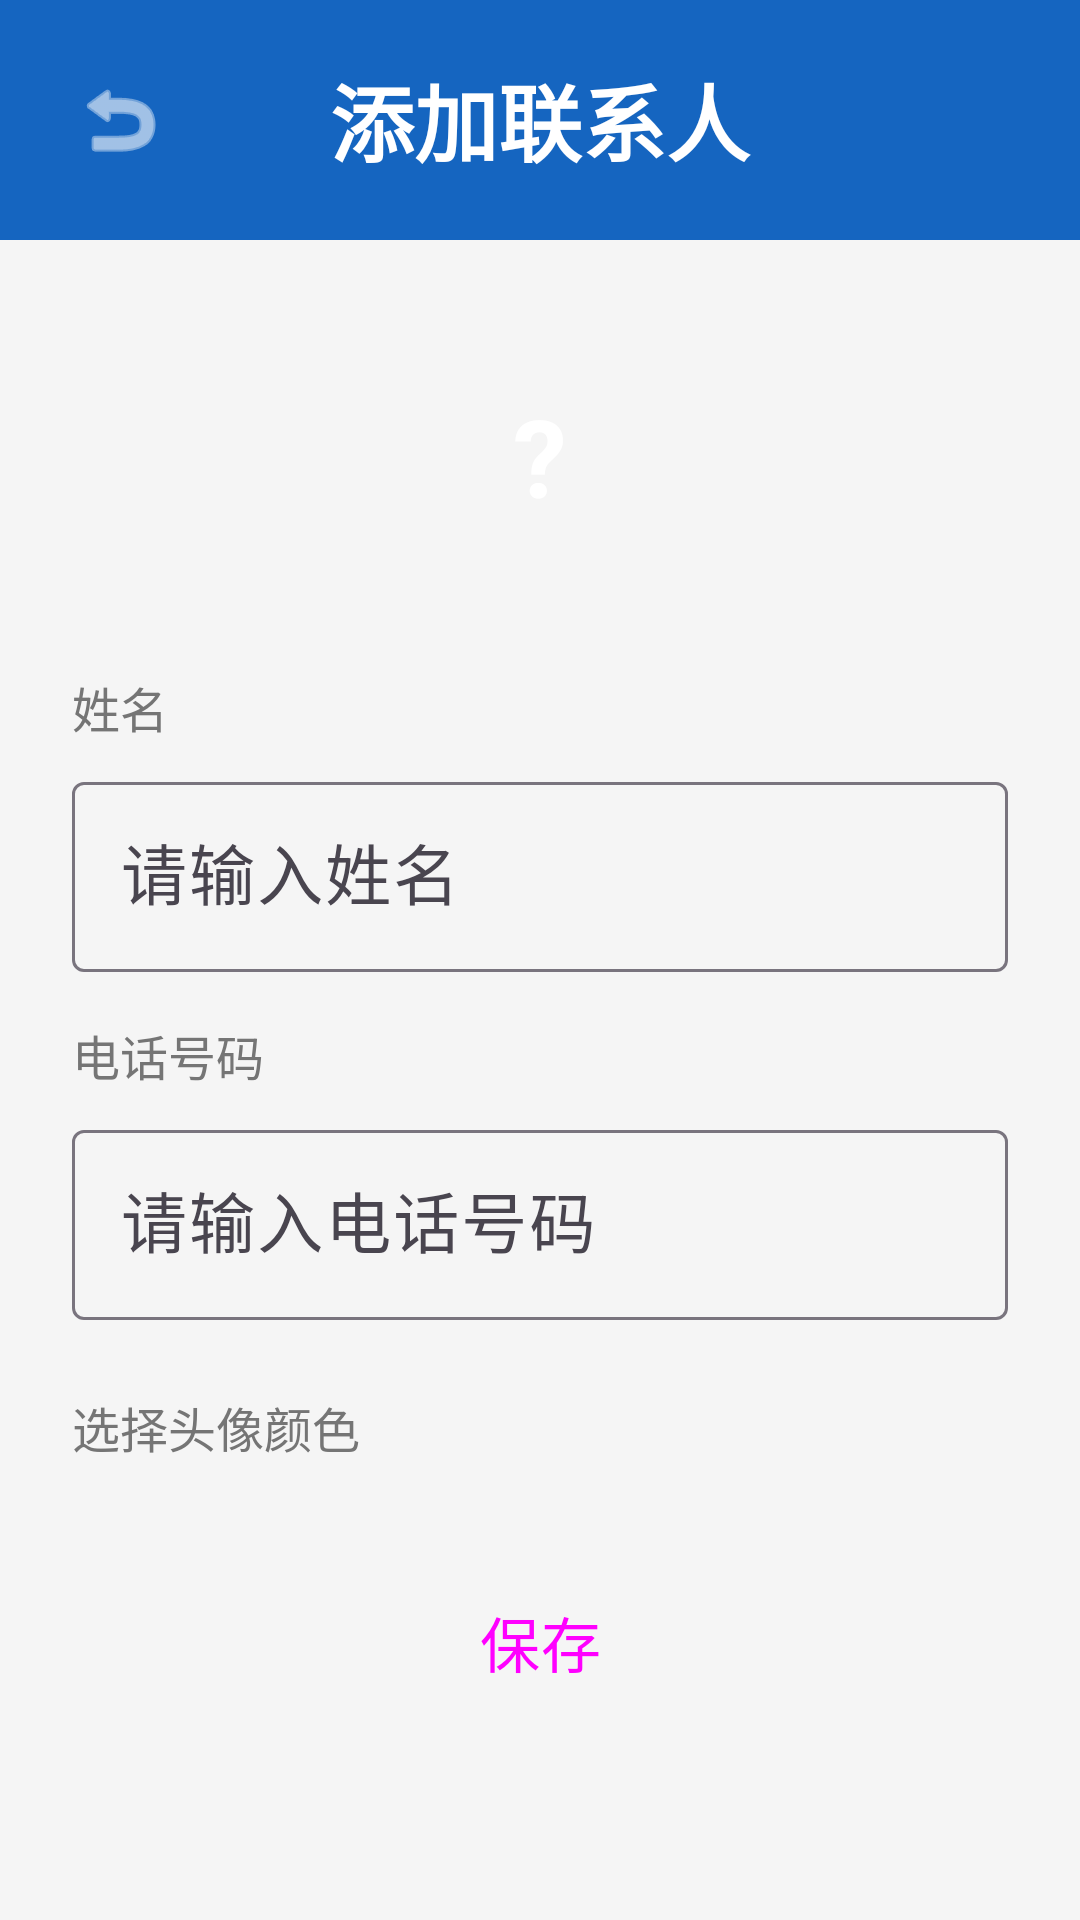

Locate icon controls on the screen. Image size 1080×1920, boxes as (left=x1, top=y1, right=x2, bottom=y2).
返回: (left=87, top=89, right=156, bottom=152)
